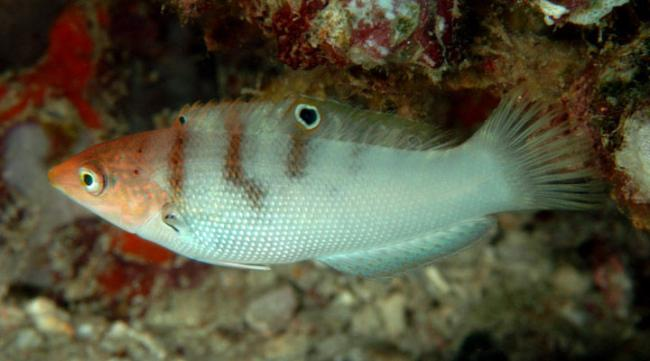fish: (47, 93, 603, 275)
